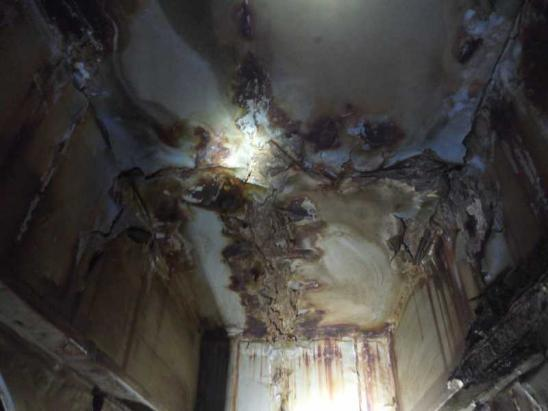corrosion: (206, 184, 359, 333), (377, 152, 486, 293), (103, 136, 258, 231), (20, 0, 136, 75), (274, 108, 357, 177), (216, 54, 276, 108), (351, 348, 407, 405), (223, 0, 275, 41), (364, 116, 404, 165), (302, 344, 346, 385), (263, 345, 292, 403)
